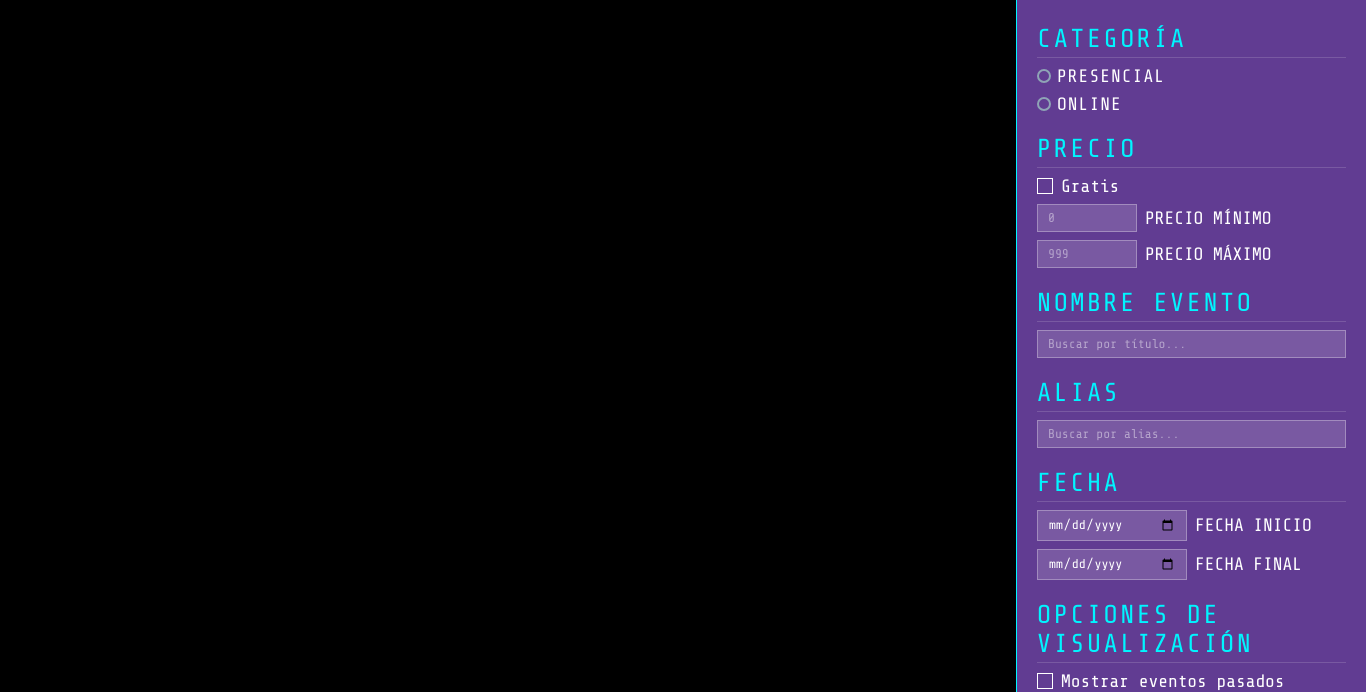
Test: FilterPanel › vuelve a mostrar los campos de precio al desmarcar 'Gratis'
The image size is (1366, 692).
Click the checkbox labelled "Gratis" at x=1045, y=186, box [1037, 178, 1053, 194]
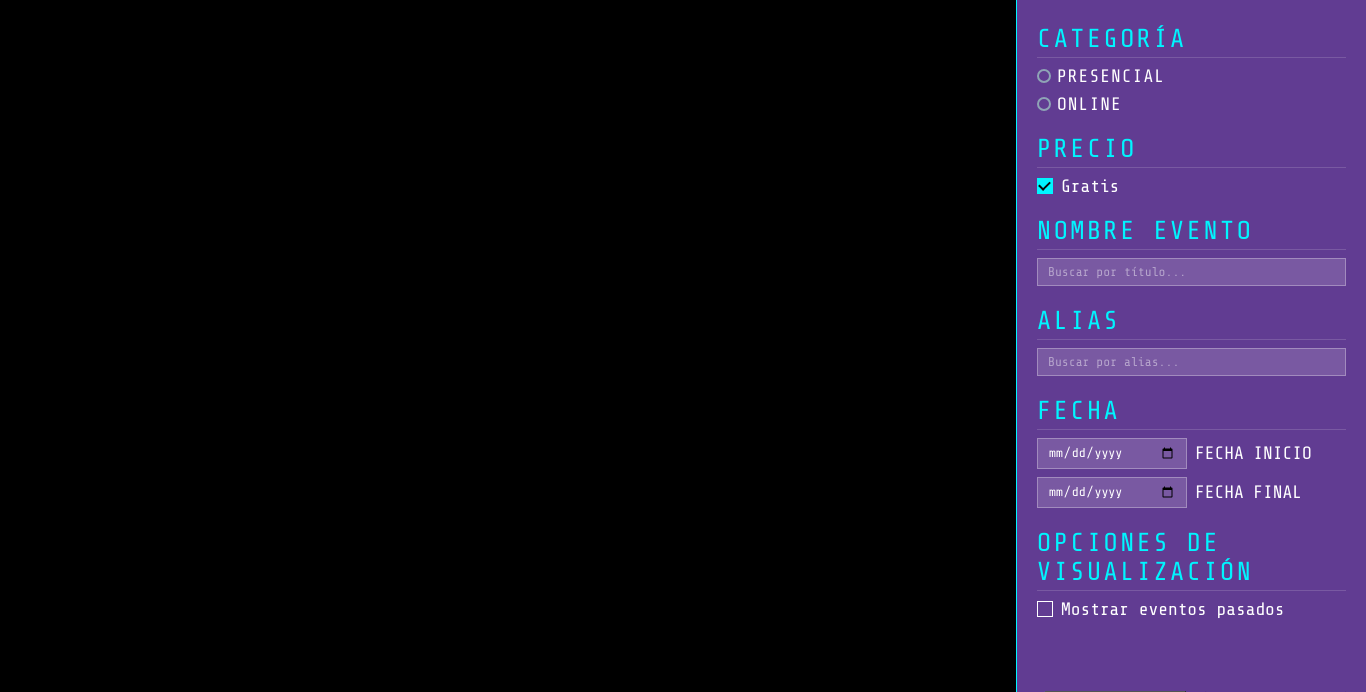
Click the checkbox labelled "Gratis" at x=1045, y=186, box [1037, 178, 1053, 194]
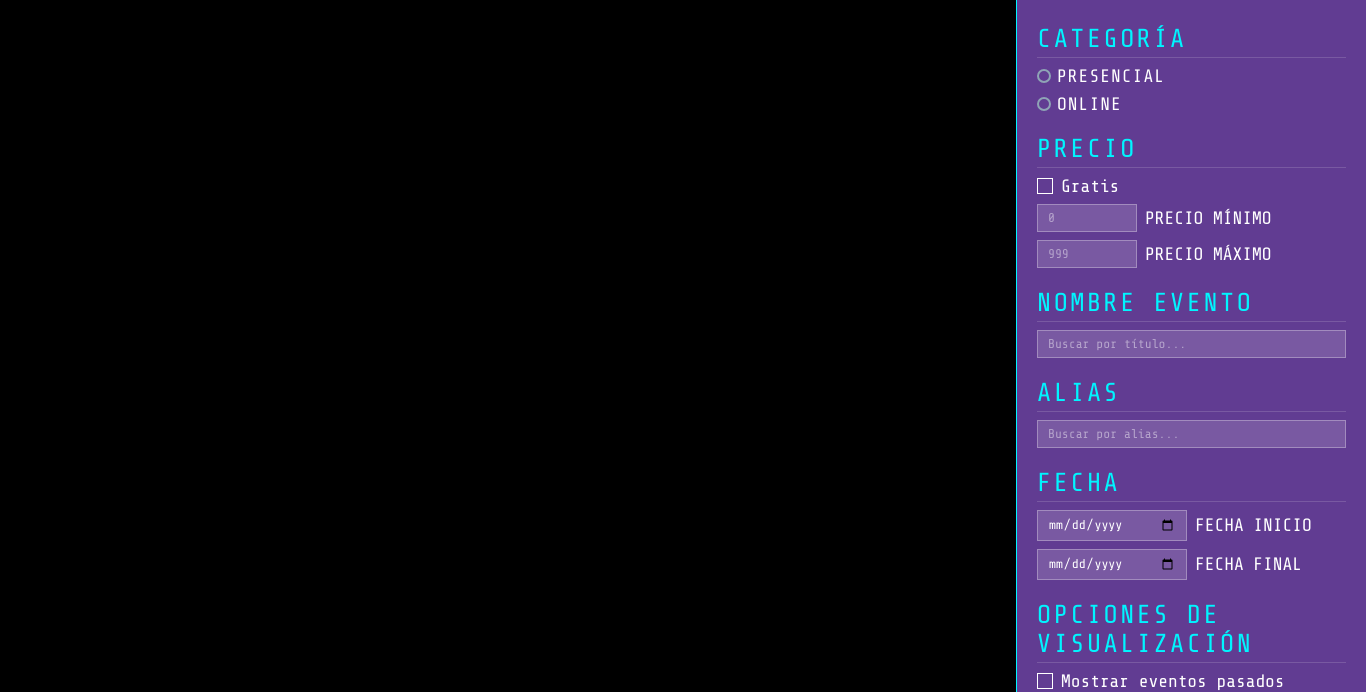
Now the number field with placeholder "0" is shown, box [1037, 204, 1137, 232]
Now the number field with placeholder "999" is shown, box [1037, 240, 1137, 268]
